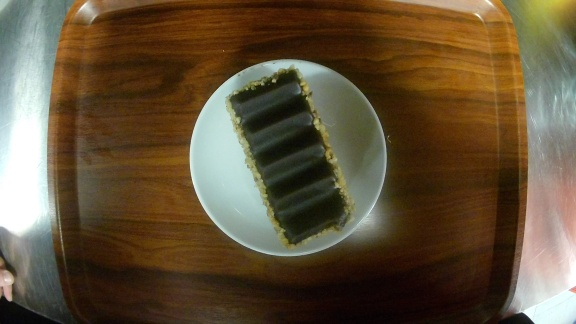muzlupasta: (189, 59, 389, 254)
